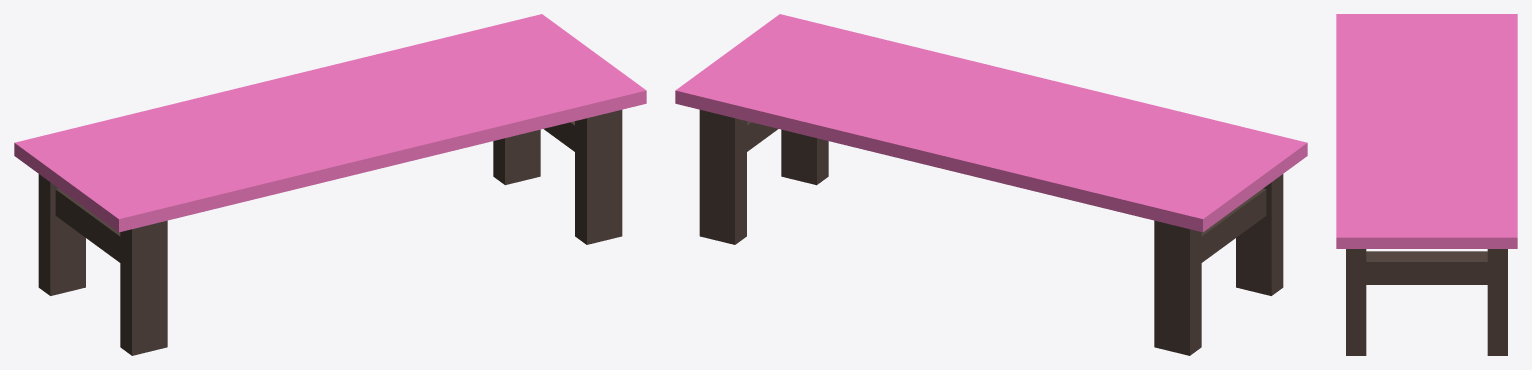
File: prop_bench_playground.glb
3 views of the same model, side by side, from view 1: azimuth 30°, elevation 25°; view 2: azimuth 150°, elevation 25°; view 3: azimuth 270°, elevation 25° (orthographic). The views are drawn at different scales.
Parts seen in each view (by area): view 1: bench; view 2: bench; view 3: bench.
Boxes of the visible parts, x1,y1,x2,y2 form: bench: (14,14,646,355); bench: (675,14,1307,355); bench: (1336,14,1517,355).
Bounding box in the file's own units: 2.09 × 0.5501 × 0.7166.
